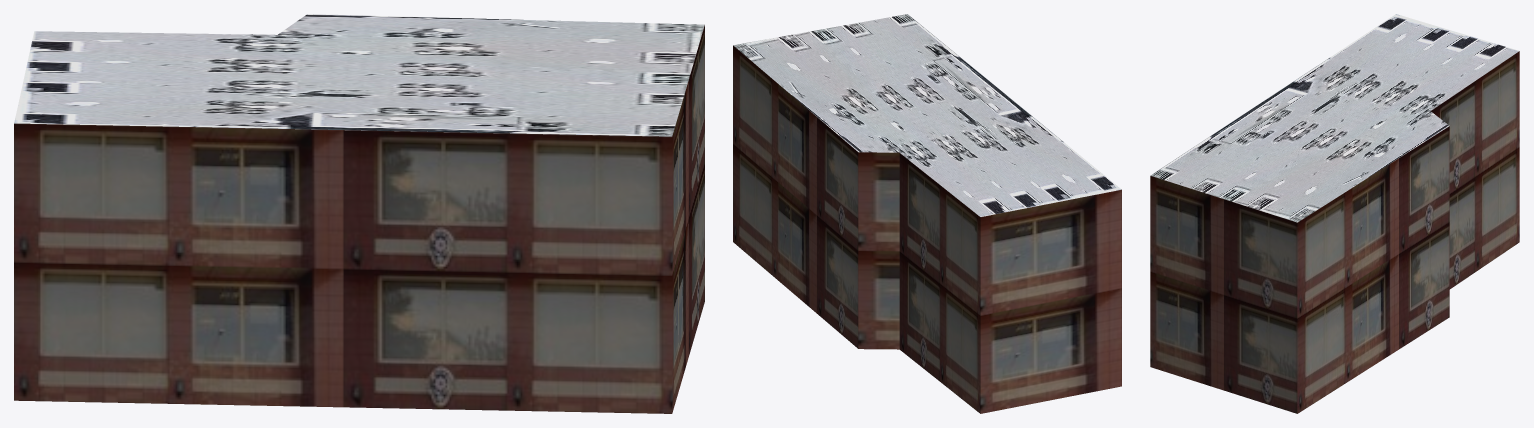
Rendered from ResTex__2204.fbx.
3 renders of one model, left to right at view 1: azimuth 30°, elevation 25°; view 2: azimuth 150°, elevation 25°; view 3: azimuth 270°, elevation 25°, orthographic. The views are drawn at different scales.
Visible parts, largest first — view 1: CityEngineMaterial_13_m, CityEngineMaterial_8_m; view 2: CityEngineMaterial_13_m, CityEngineMaterial_8_m; view 3: CityEngineMaterial_13_m, CityEngineMaterial_8_m.
Boxes of the visible parts, x1,y1,x2,y2 form: CityEngineMaterial_13_m: [14, 25, 704, 413]; CityEngineMaterial_8_m: [14, 14, 704, 136]; CityEngineMaterial_13_m: [733, 45, 1121, 413]; CityEngineMaterial_8_m: [733, 14, 1121, 216]; CityEngineMaterial_13_m: [1150, 51, 1519, 413]; CityEngineMaterial_8_m: [1150, 14, 1518, 222].
Size of the model in its own units: 14.03 by 6 by 10.5.
Materials: 2 (2 with a texture image).
